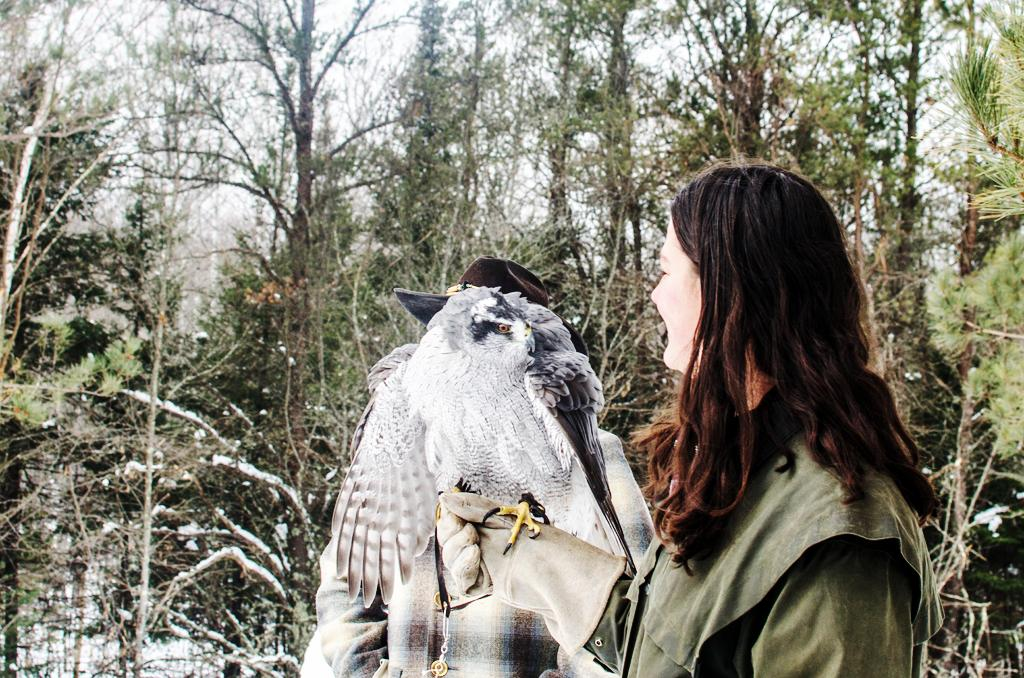Owl: (324, 285, 634, 604)
